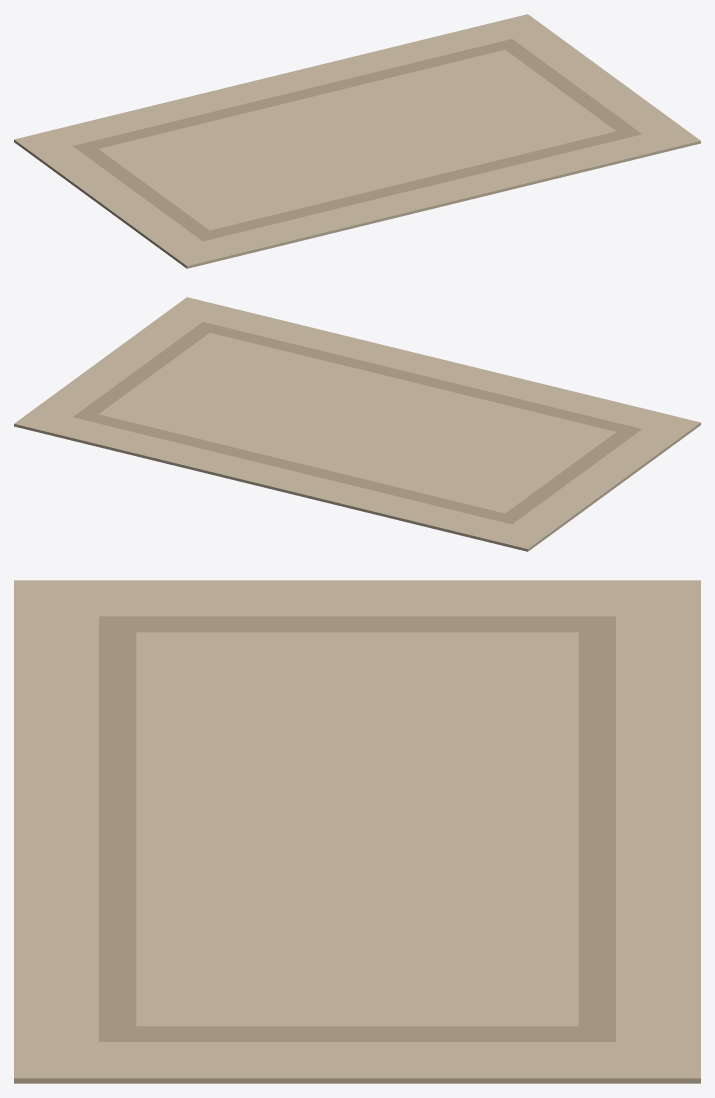
File: rug-rectangle.glb
The picture shows the model from 3 angles, top to bottom: view 1: azimuth 30°, elevation 25°; view 2: azimuth 150°, elevation 25°; view 3: azimuth 270°, elevation 25°; orthographic projection. The views are drawn at different scales.
Parts seen in each view (by area): view 1: rug-rectangle; view 2: rug-rectangle; view 3: rug-rectangle.
Part boxes in pixels (bbox=[...]): rug-rectangle: bbox=[14, 14, 700, 268]; rug-rectangle: bbox=[14, 297, 700, 551]; rug-rectangle: bbox=[14, 580, 700, 1083].
Size of the model in its own units: 2.4 by 0.012 by 1.4.
